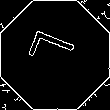L_E: (26, 31, 84, 79)
